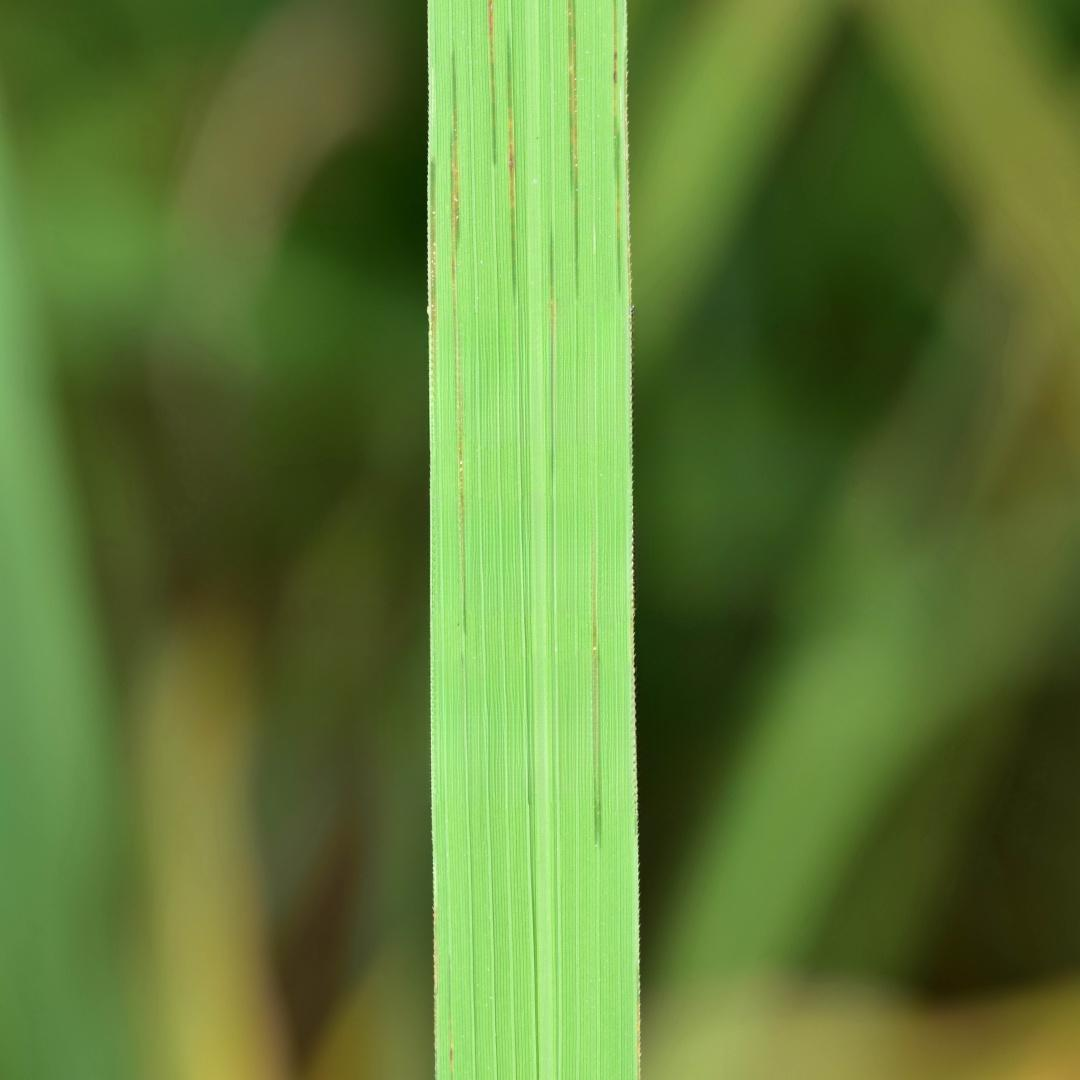BLS: (450, 49, 466, 635), (568, 0, 578, 302), (592, 527, 601, 847), (507, 23, 516, 306), (613, 2, 621, 293), (430, 155, 439, 412), (488, 0, 497, 167), (551, 225, 556, 480)
LEAF: (428, 0, 638, 1079)
